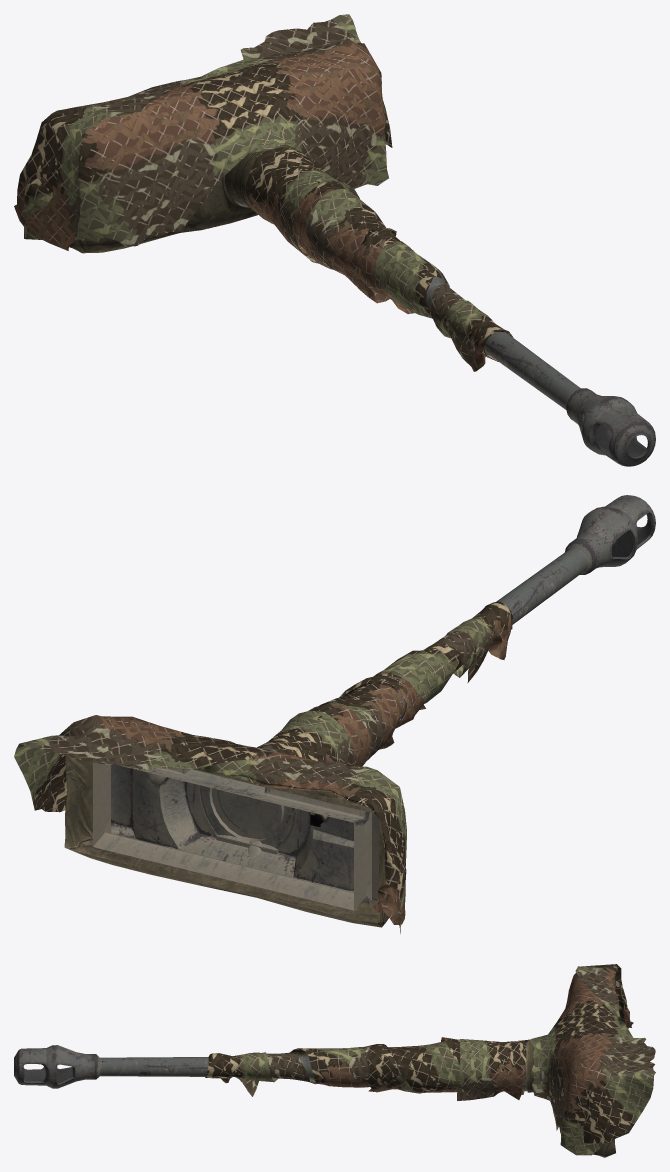
The model's file is Tiger I_Skin_Gun.fbx.
3 renders of one model, top to bottom at view 1: azimuth 30°, elevation 25°; view 2: azimuth 150°, elevation 25°; view 3: azimuth 270°, elevation 25°, orthographic. The views are drawn at different scales.
Parts seen in each view (by area): view 1: german\G04_PzVI_Tiger_I\_skins\G04_PzVI_Tiger_I_E_3DSt\_185b, german\G04_PzVI_Tiger_I\normal\l\Gun_05.pri~7~9, german\G04_PzVI_Tiger_I\_skins\G04_PzVI_Tiger_I_E_3DSt\_e1f5; view 2: german\G04_PzVI_Tiger_I\normal\l\Gun_05.pri~7~9, german\G04_PzVI_Tiger_I\_skins\G04_PzVI_Tiger_I_E_3DSt\_185b, german\G04_PzVI_Tiger_I\_skins\G04_PzVI_Tiger_I_E_3DSt\_e1f5; view 3: german\G04_PzVI_Tiger_I\_skins\G04_PzVI_Tiger_I_E_3DSt\_185b, german\G04_PzVI_Tiger_I\normal\l\Gun_05.pri~7~9, german\G04_PzVI_Tiger_I\_skins\G04_PzVI_Tiger_I_E_3DSt\_e1f5.
Boxes of the visible parts, x1,y1,x2,y2 form: german\G04_PzVI_Tiger_I\_skins\G04_PzVI_Tiger_I_E_3DSt\_185b: [14, 14, 513, 371]; german\G04_PzVI_Tiger_I\normal\l\Gun_05.pri~7~9: [234, 198, 655, 466]; german\G04_PzVI_Tiger_I\_skins\G04_PzVI_Tiger_I_E_3DSt\_e1f5: [69, 85, 365, 253]; german\G04_PzVI_Tiger_I\normal\l\Gun_05.pri~7~9: [93, 495, 655, 910]; german\G04_PzVI_Tiger_I\_skins\G04_PzVI_Tiger_I_E_3DSt\_185b: [14, 601, 512, 933]; german\G04_PzVI_Tiger_I\_skins\G04_PzVI_Tiger_I_E_3DSt\_e1f5: [64, 748, 388, 927]; german\G04_PzVI_Tiger_I\_skins\G04_PzVI_Tiger_I_E_3DSt\_185b: [205, 964, 655, 1155]; german\G04_PzVI_Tiger_I\normal\l\Gun_05.pri~7~9: [14, 1042, 544, 1091]; german\G04_PzVI_Tiger_I\_skins\G04_PzVI_Tiger_I_E_3DSt\_e1f5: [526, 977, 615, 1157].
Size of the model in its own units: 2 by 0.75 by 4.37.
